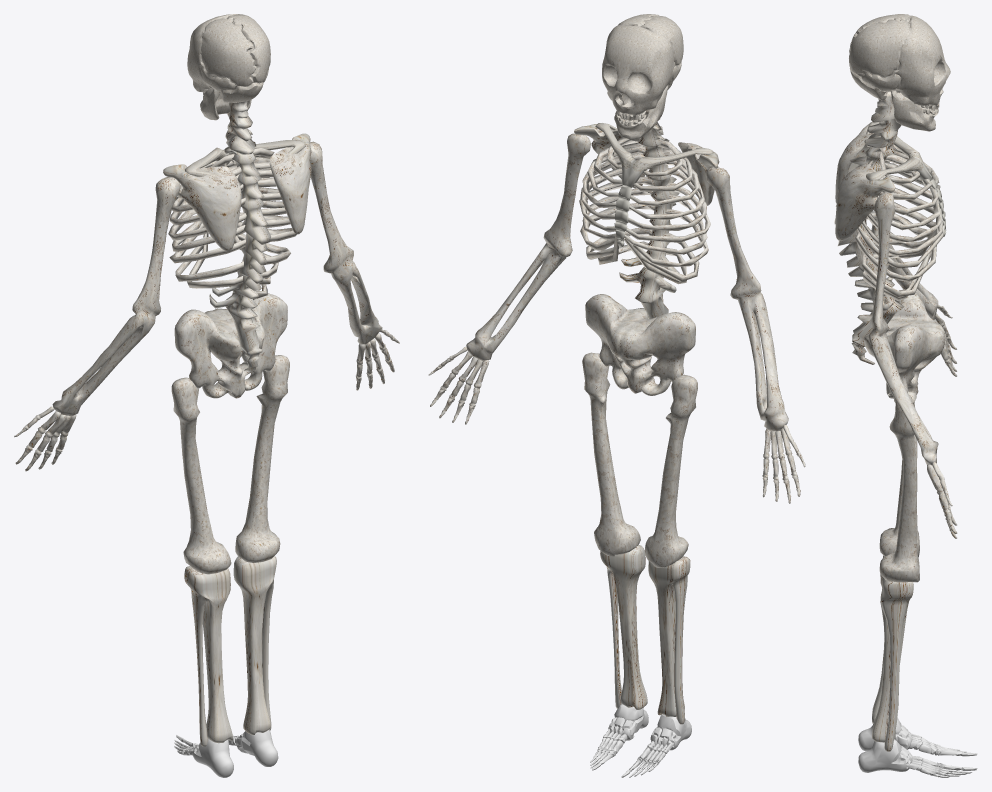
Rendered from skeletonsculptJoined.fbx.
3 views of the same model, side by side, from view 1: azimuth 30°, elevation 25°; view 2: azimuth 150°, elevation 25°; view 3: azimuth 270°, elevation 25° (orthographic). The views are drawn at different scales.
Parts seen in each view (by area): view 1: hands, leg1, leg0, was, head, spiral cord, sholder, ribCage, feet, Plane.001; view 2: hands, ribCage, leg0, leg1, head, was, spiral cord, feet, Plane.001, sholder; view 3: head, hands, ribCage, leg0, spiral cord, leg1, was, sholder, feet, Plane.001.
Boxes of the visible parts, x1,y1,x2,y2 form: hands: [14, 141, 399, 471]; leg1: [184, 556, 276, 746]; leg0: [171, 355, 289, 574]; was: [174, 293, 287, 398]; head: [187, 14, 270, 120]; spiral cord: [209, 101, 270, 372]; sholder: [163, 133, 311, 251]; ribCage: [168, 148, 296, 288]; feet: [174, 729, 278, 777]; Plane.001: [185, 140, 305, 176]; hands: [428, 133, 805, 503]; ribCage: [579, 137, 710, 284]; leg0: [582, 352, 697, 567]; leg1: [600, 544, 690, 724]; head: [602, 14, 683, 139]; was: [585, 294, 695, 395]; spiral cord: [619, 110, 679, 319]; feet: [590, 704, 691, 777]; Plane.001: [595, 123, 713, 246]; sholder: [574, 124, 719, 205]; head: [849, 14, 950, 131]; hands: [868, 160, 957, 538]; ribCage: [855, 145, 945, 300]; leg0: [879, 382, 919, 582]; spiral cord: [834, 91, 904, 364]; leg1: [872, 555, 913, 751]; was: [864, 289, 945, 403]; sholder: [835, 123, 895, 240]; feet: [858, 717, 977, 777]; Plane.001: [864, 122, 946, 236].
Bounding box in the file's own units: 674 × 1243 × 217.
2 materials, 1 textured.
